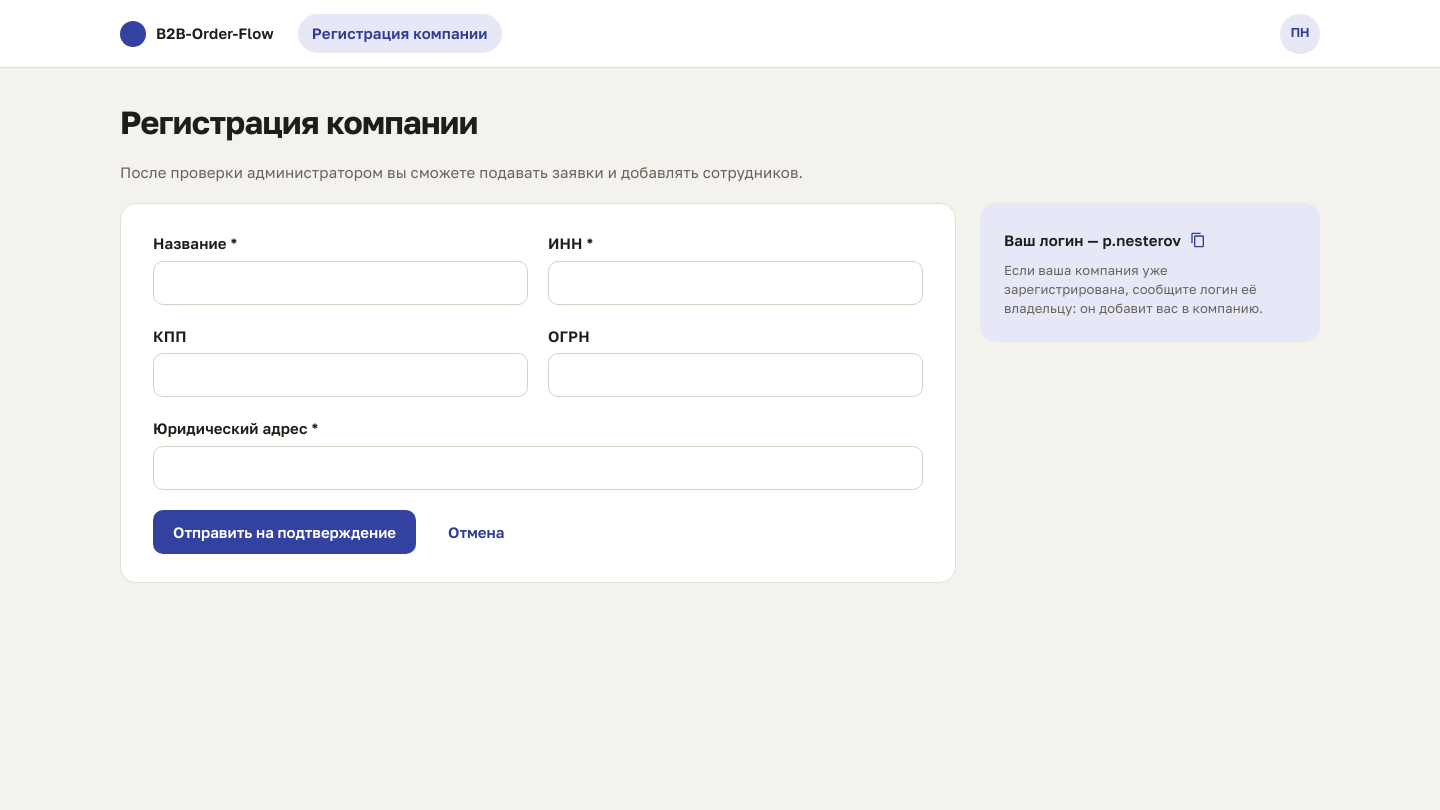
Scenario: UI-03. Регистрация компании › неверная контрольная сумма ИНН ловится до отправки
The width and height of the screenshot is (1440, 810).
Type "ООО «Опечатка»" into the field with test id "company-new-name".
click(340, 283); type("ООО «Опечатка»")  # box [170, 262, 511, 304]
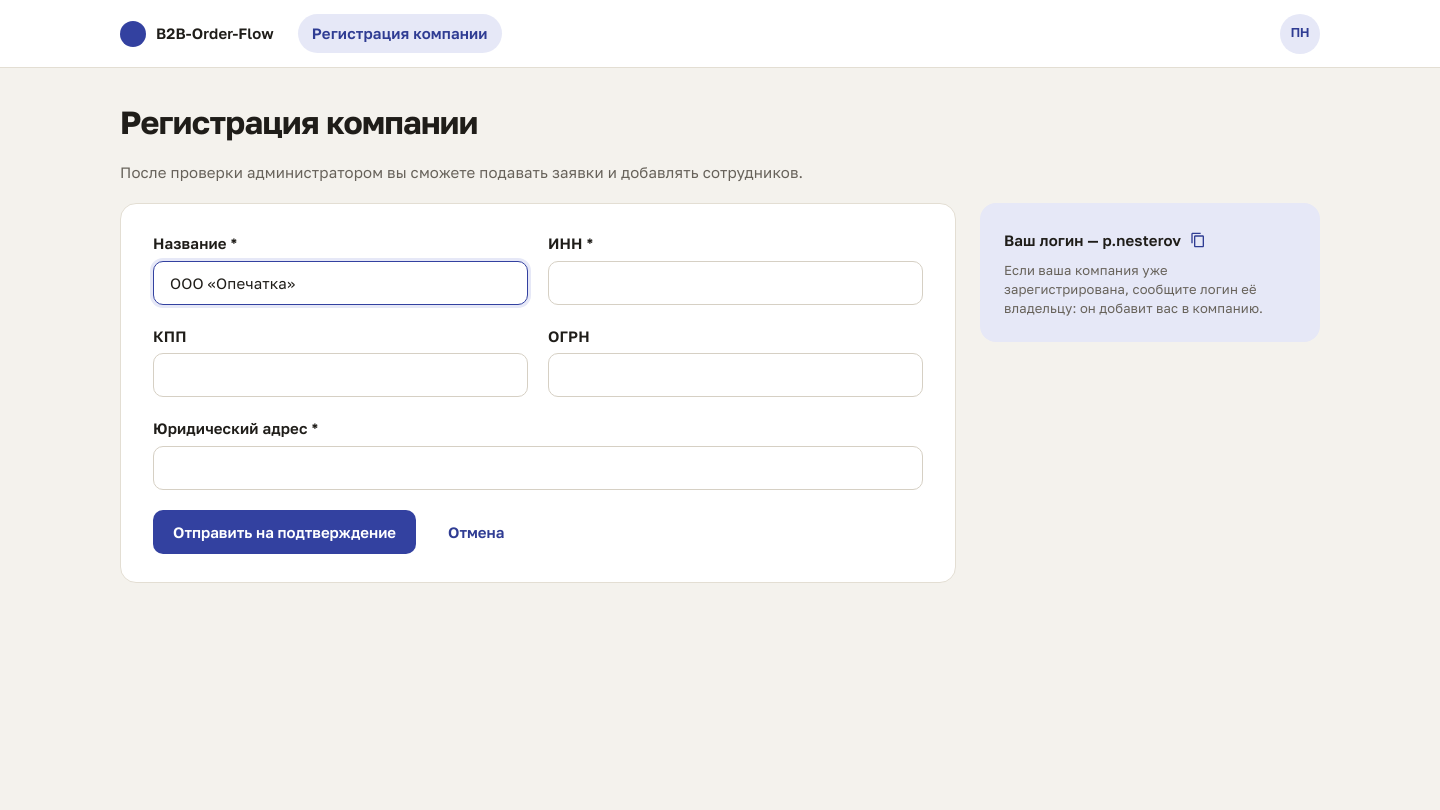
Type "9977004456" into the field with test id "company-new-inn".
click(736, 283); type("9977004456")  # box [565, 262, 906, 304]
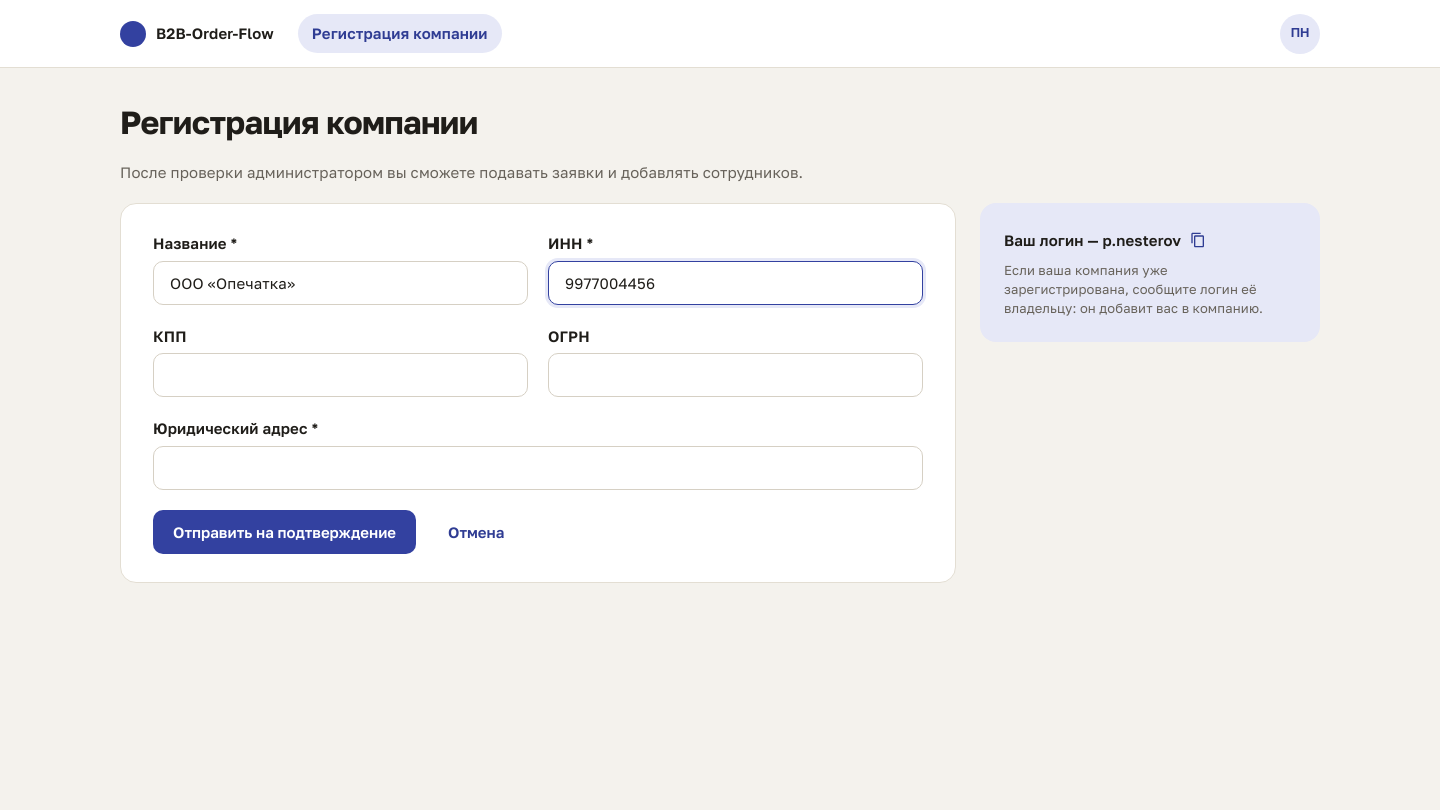
Type "г. Москва" into the field with test id "company-new-legal-address".
click(538, 468); type("г. Москва")  # box [170, 447, 906, 489]
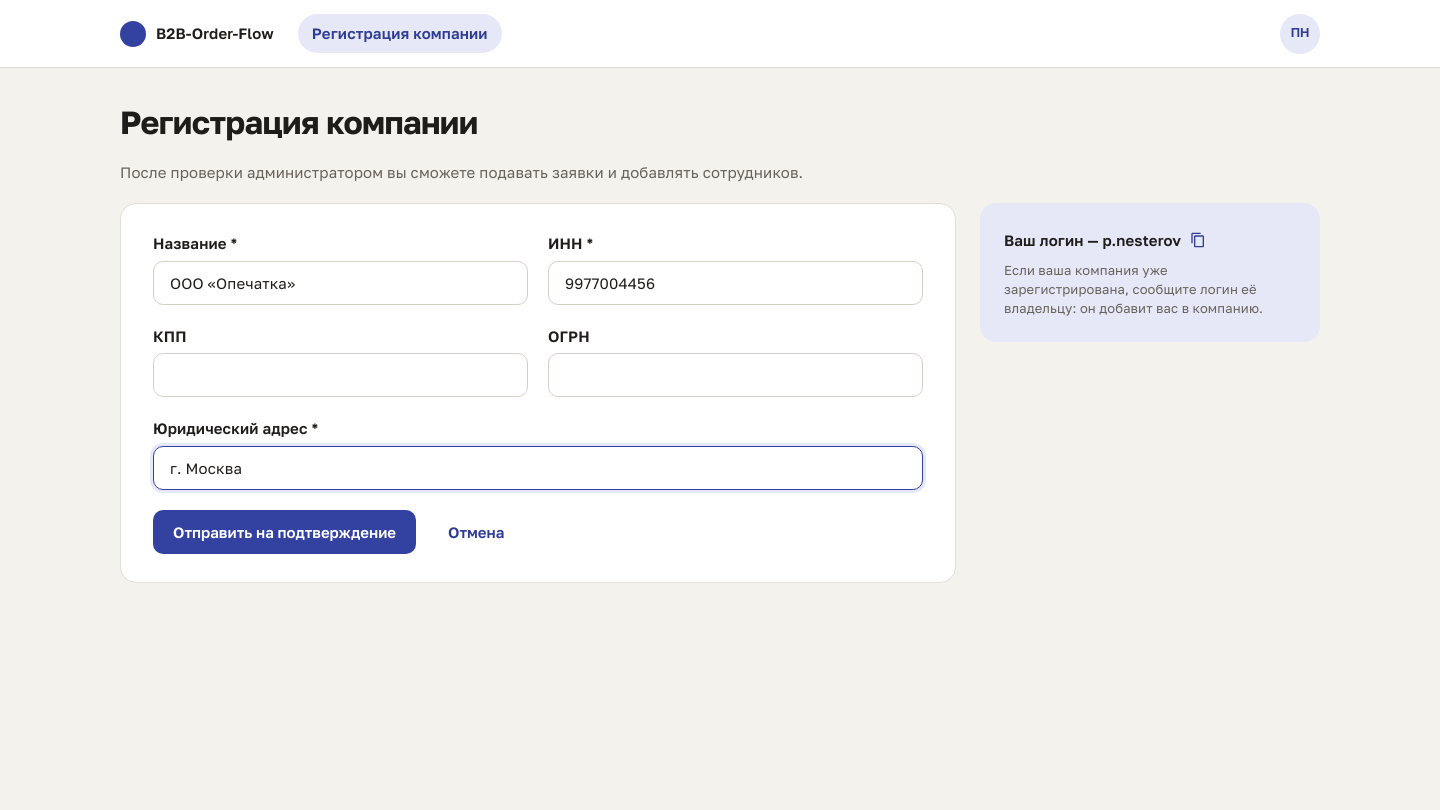
Click the button with test id "company-new-submit".
click(284, 532)  # box [153, 510, 416, 554]
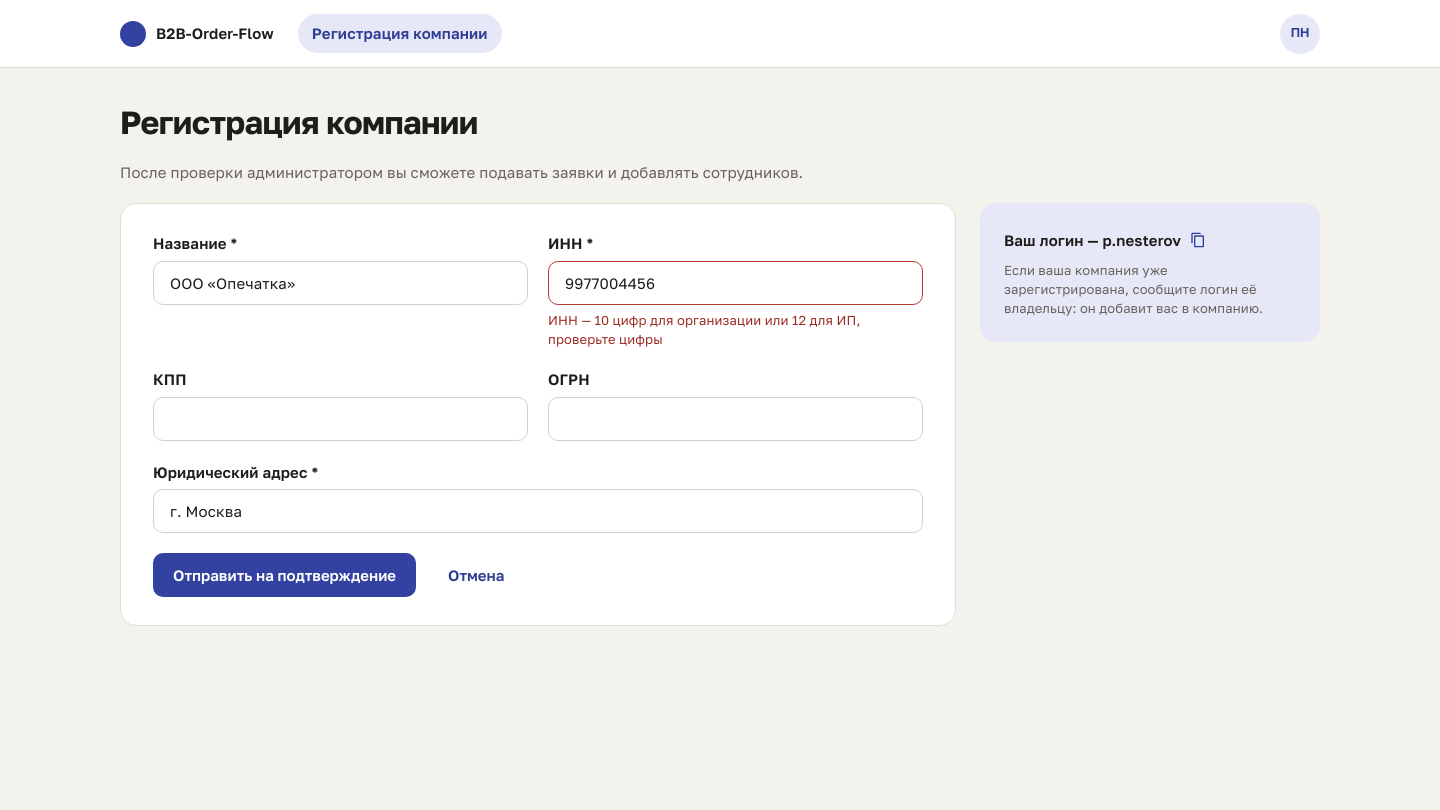
Now the text "ИНН — 10 цифр для организации или 12 для ИП, проверьте цифры" is shown, box [548, 312, 860, 347]
